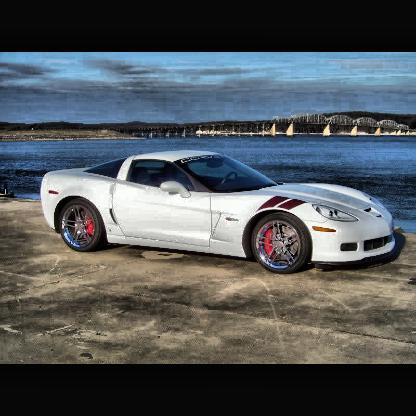Chevrolet Corvette Ron Fellows Edition Z06 2007: (44, 152, 401, 275)
